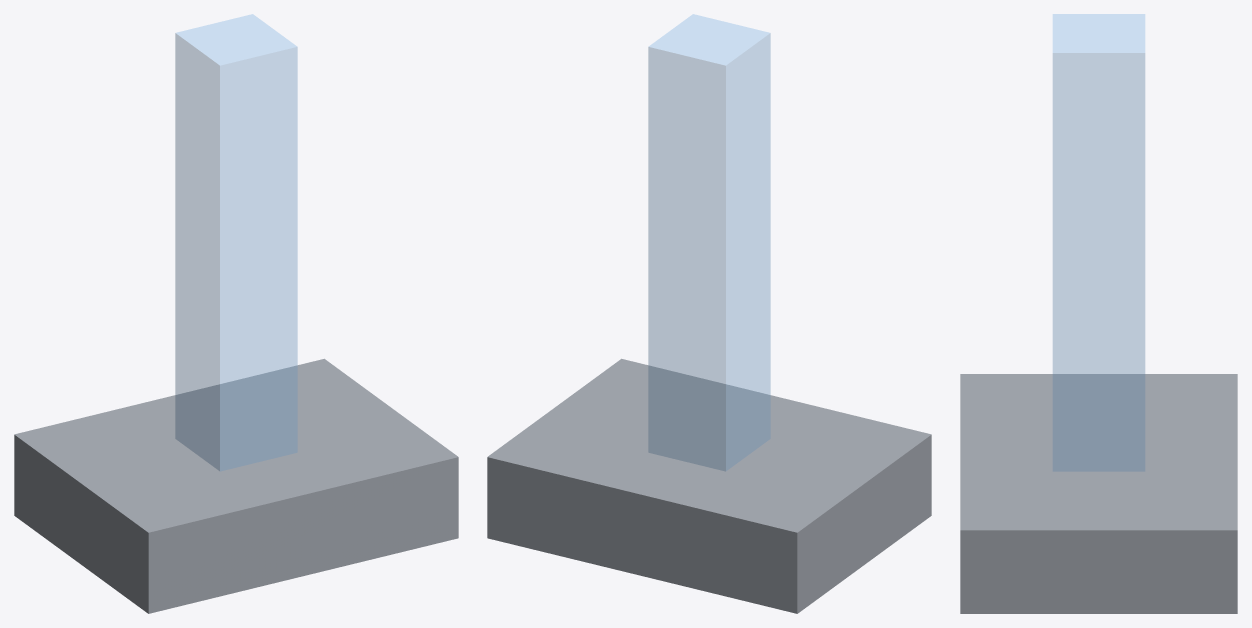
The model's file is meshopt.glb.
3 renders of one model, left to right at view 1: azimuth 30°, elevation 25°; view 2: azimuth 150°, elevation 25°; view 3: azimuth 270°, elevation 25°, orthographic. The views are drawn at different scales.
Parts seen in each view (by area): view 1: Base, Post; view 2: Base, Post; view 3: Base, Post.
Boxes of the visible parts, <box> form: Base: <box>14,358,458,613</box>; Post: <box>175,14,297,471</box>; Base: <box>487,358,931,613</box>; Post: <box>648,14,770,471</box>; Base: <box>960,374,1237,613</box>; Post: <box>1053,14,1144,471</box>.
Bounding box in the file's own units: 40 × 60 × 30.
